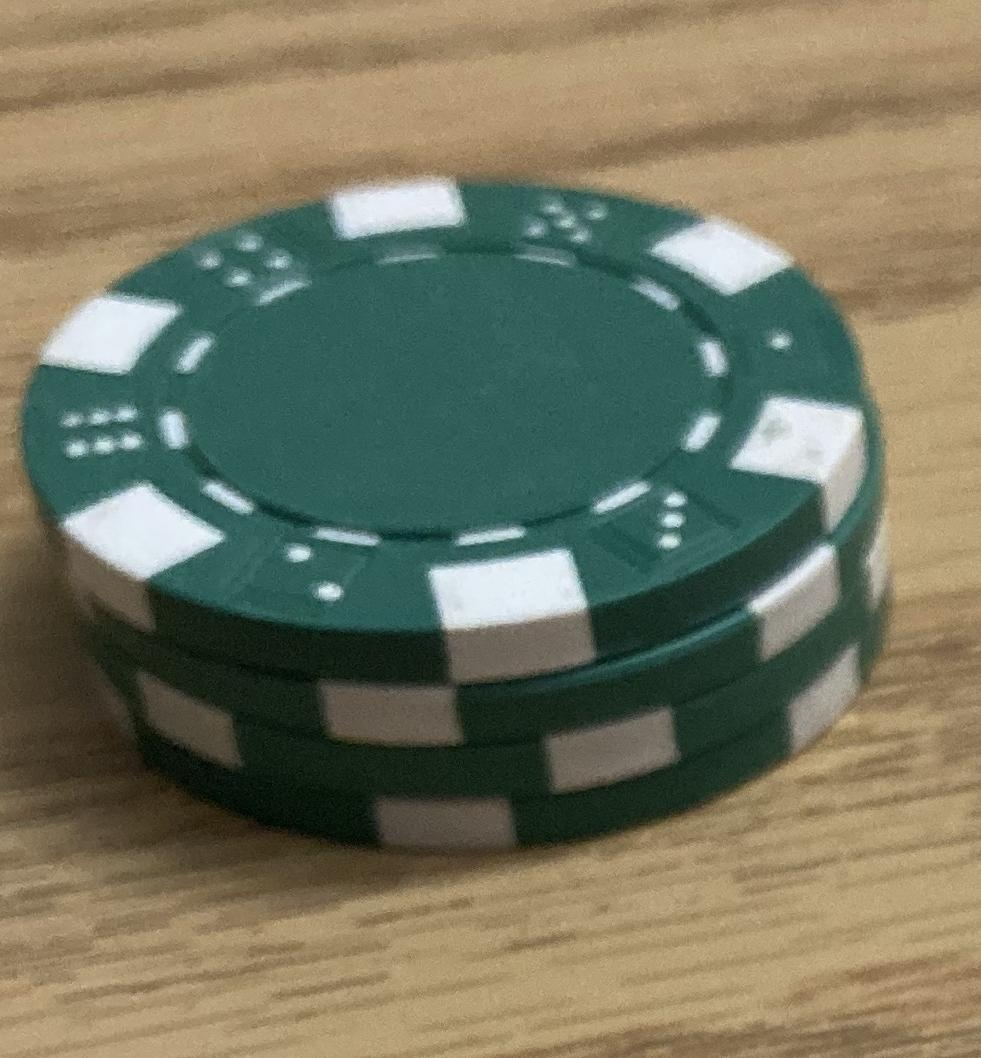Chip: (1, 1, 981, 1058)
